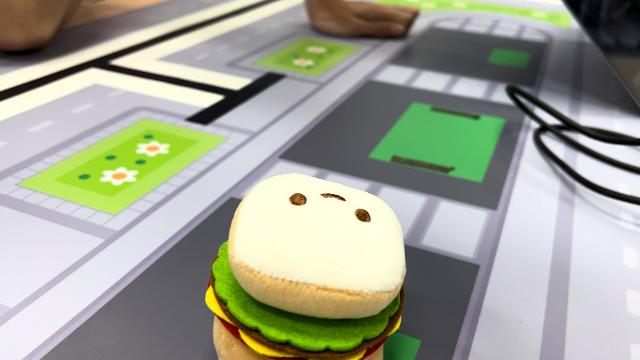sandwich: (202, 170, 410, 358)
